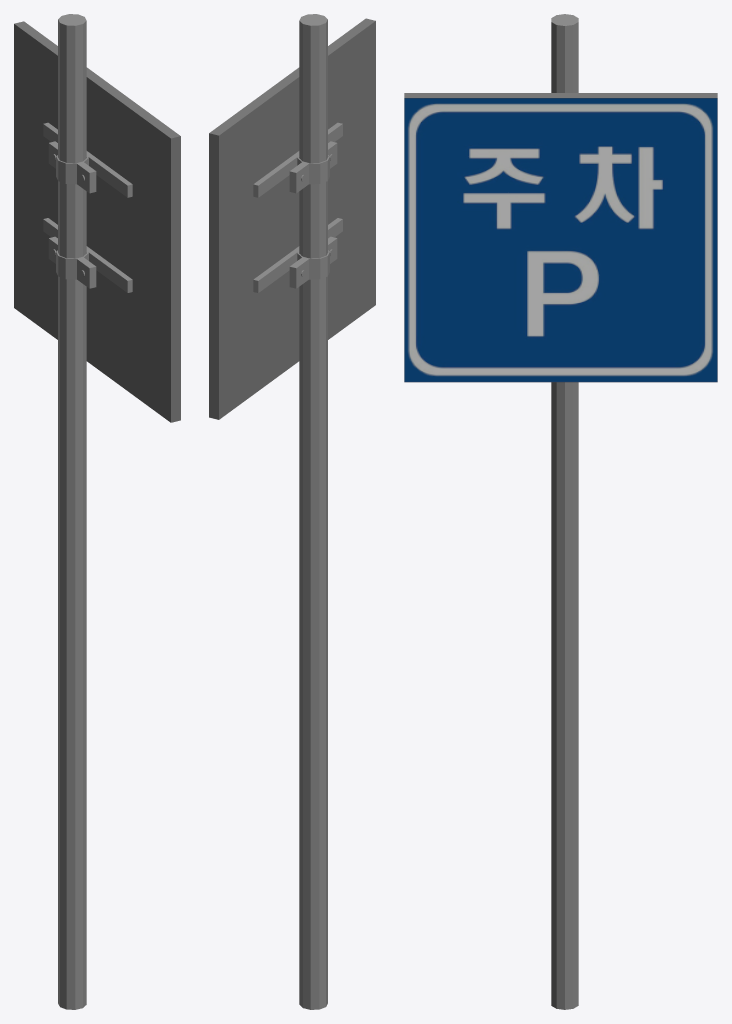
The model's file is obj_sign_6.fbx.
3 renders of one model, left to right at view 1: azimuth 30°, elevation 25°; view 2: azimuth 150°, elevation 25°; view 3: azimuth 270°, elevation 25°, orthographic.
Parts seen in each view (by area): view 1: obj_sign_6; view 2: obj_sign_6; view 3: obj_sign_6.
Boxes of the visible parts, <box> form: obj_sign_6: <box>14,14,180,1009</box>; obj_sign_6: <box>209,14,375,1009</box>; obj_sign_6: <box>404,14,717,1009</box>.
Size of the model in its own units: 0.1073 by 2.39 by 0.6901.
Materials: 1 (1 with a texture image).
